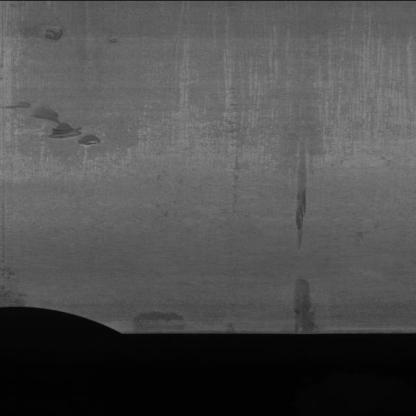crescent_gap: (1, 298, 126, 344)
